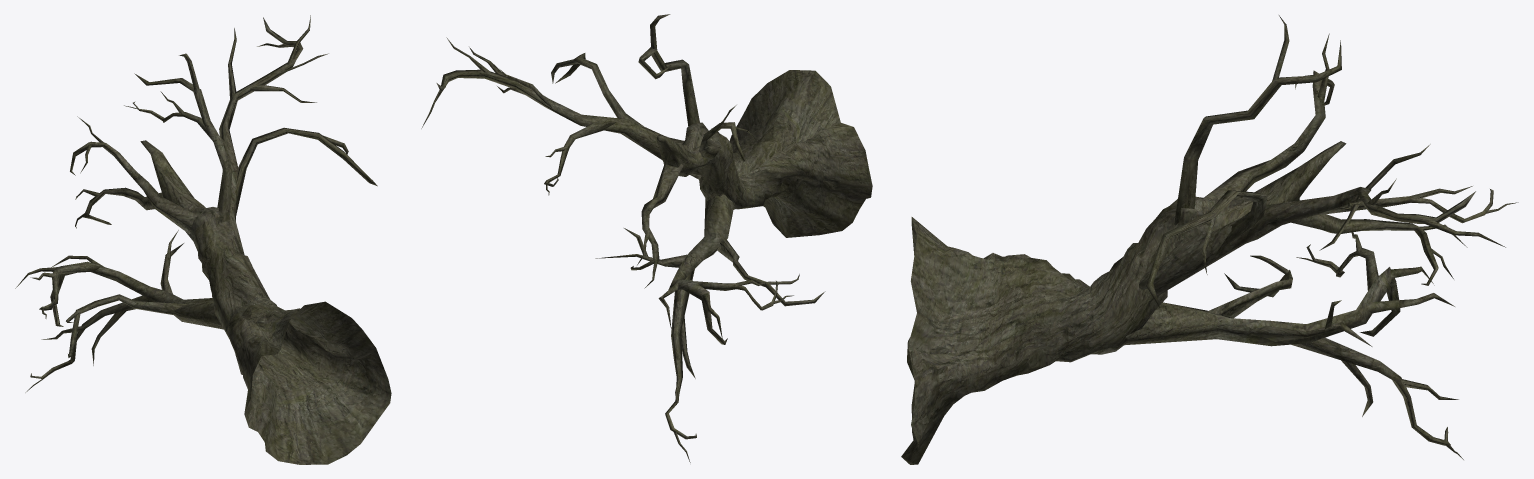
The model's file is TI_Old_Tree_04.fbx.
3 views of the same model, side by side, from view 1: azimuth 30°, elevation 25°; view 2: azimuth 150°, elevation 25°; view 3: azimuth 270°, elevation 25° (orthographic). The views are drawn at different scales.
Visible parts, largest first — view 1: TI_Old_Tree_04; view 2: TI_Old_Tree_04; view 3: TI_Old_Tree_04.
Boxes of the visible parts, x1,y1,x2,y2 form: TI_Old_Tree_04: [15, 15, 391, 464]; TI_Old_Tree_04: [421, 14, 872, 462]; TI_Old_Tree_04: [901, 15, 1518, 464].
Size of the model in its own units: 8.19 by 9.39 by 10.4.
